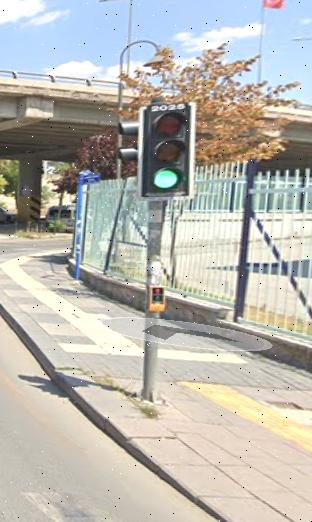greenlight: (144, 108, 185, 201)
